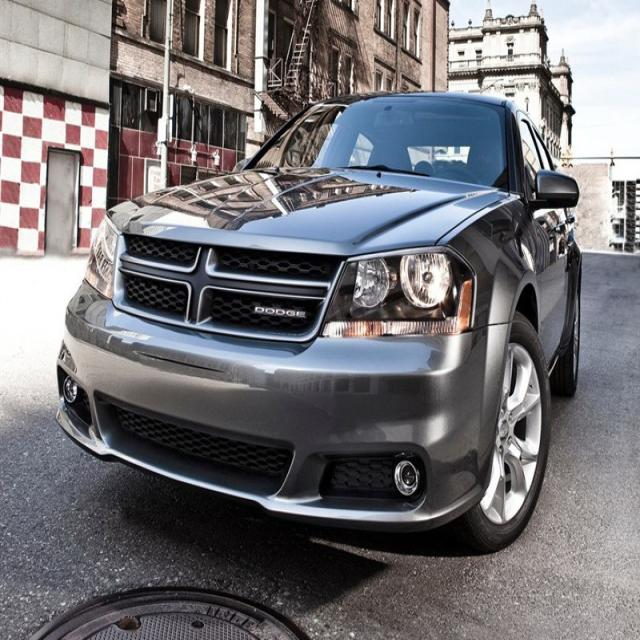front_bumper: (56, 275, 512, 533)
front_glass: (246, 98, 511, 189)
front_left_side_light: (318, 242, 480, 342)
front_left_side_mirror: (530, 164, 580, 216)
front_right_side_light: (81, 204, 117, 300)
wheel: (457, 316, 548, 550)
